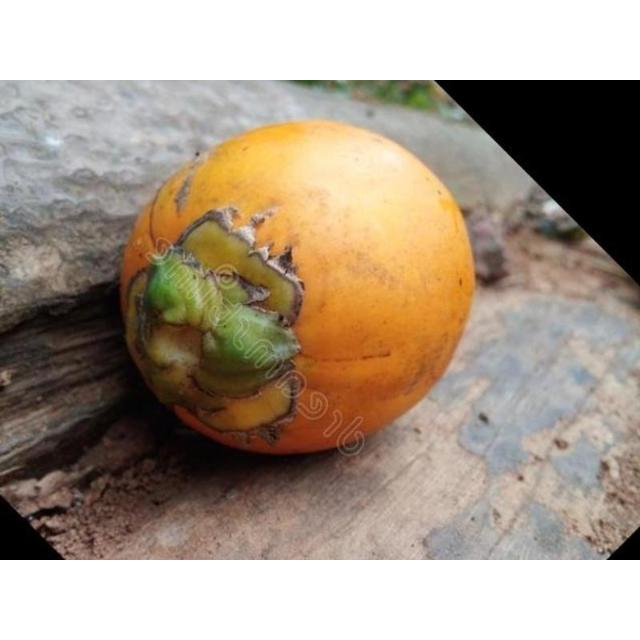good: (116, 119, 477, 458)
